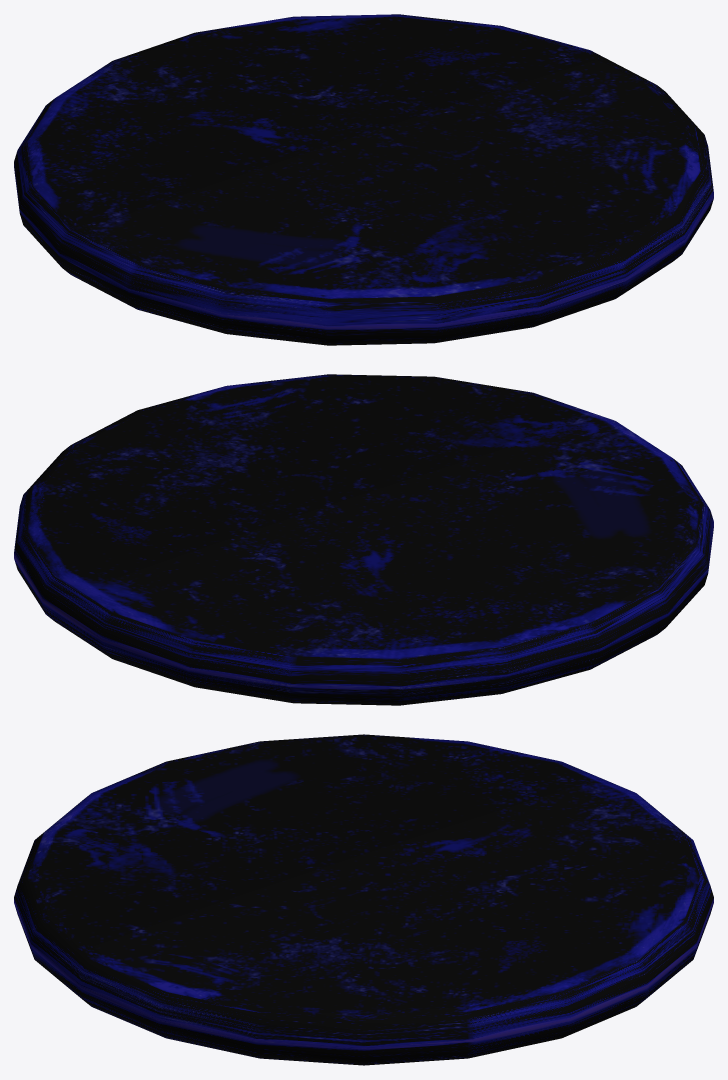
File: BoLiYuanKuai_Blue.fbx
3 renders of one model, top to bottom at view 1: azimuth 30°, elevation 25°; view 2: azimuth 150°, elevation 25°; view 3: azimuth 270°, elevation 25°, orthographic.
Visible parts, largest first — view 1: BoLiYuanKuai_Blue; view 2: BoLiYuanKuai_Blue; view 3: BoLiYuanKuai_Blue.
Boxes of the visible parts, left/top/right/bottom form: BoLiYuanKuai_Blue: left=14, top=14, right=713, bottom=345; BoLiYuanKuai_Blue: left=14, top=374, right=713, bottom=705; BoLiYuanKuai_Blue: left=14, top=734, right=713, bottom=1065.
Bounding box in the file's own units: 12 × 1 × 12.
1 material, 1 textured.
